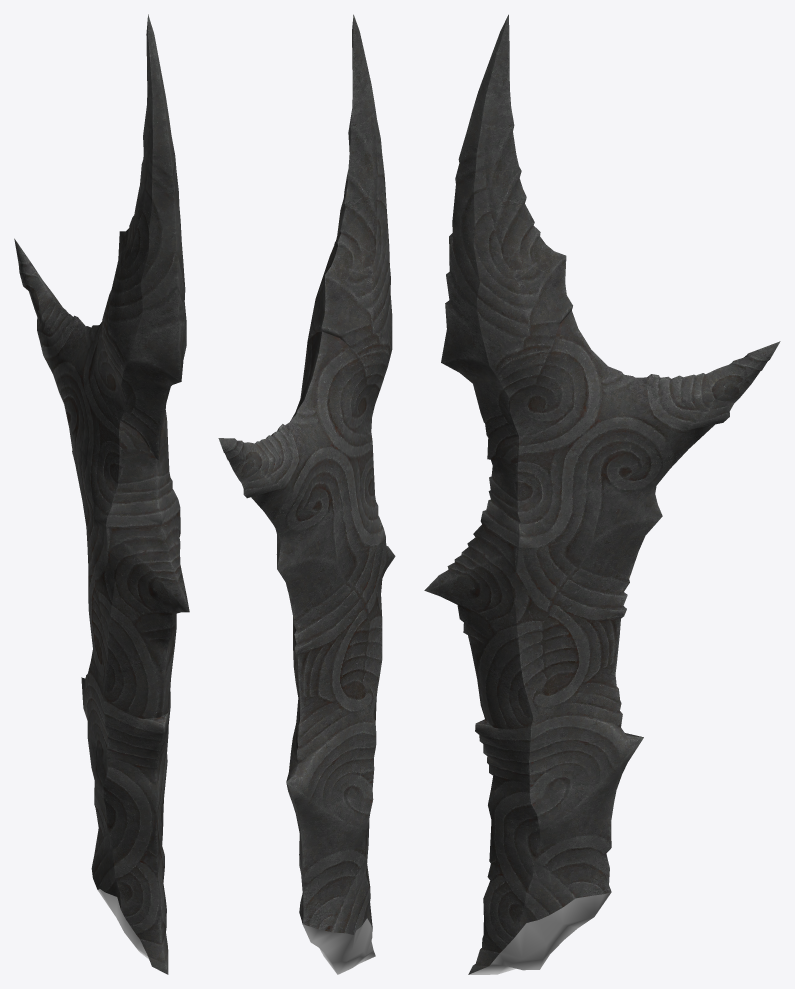
The model's file is bg_rad_kamen_pillar03a_sm_cjy.obj.
3 views of the same model, side by side, from view 1: azimuth 30°, elevation 25°; view 2: azimuth 150°, elevation 25°; view 3: azimuth 270°, elevation 25° (orthographic).
Parts seen in each view (by area): view 1: bg_rad_kamen_pillar03a_sm_cjy_0, bg_rad_kamen_pillar03a_sm_cjy_1; view 2: bg_rad_kamen_pillar03a_sm_cjy_0, bg_rad_kamen_pillar03a_sm_cjy_1; view 3: bg_rad_kamen_pillar03a_sm_cjy_0, bg_rad_kamen_pillar03a_sm_cjy_1.
Part boxes in pixels (x1=…): bg_rad_kamen_pillar03a_sm_cjy_0: x1=14, y1=14, x2=189, y2=974; bg_rad_kamen_pillar03a_sm_cjy_1: x1=97, y1=889, x2=148, y2=959; bg_rad_kamen_pillar03a_sm_cjy_0: x1=218, y1=14, x2=395, y2=934; bg_rad_kamen_pillar03a_sm_cjy_1: x1=302, y1=918, x2=375, y2=974; bg_rad_kamen_pillar03a_sm_cjy_0: x1=424, y1=14, x2=780, y2=974; bg_rad_kamen_pillar03a_sm_cjy_1: x1=468, y1=892, x2=611, y2=974.
Bounding box in the file's own units: 0.116 × 1.36 × 0.456.
2 materials, 1 textured.
